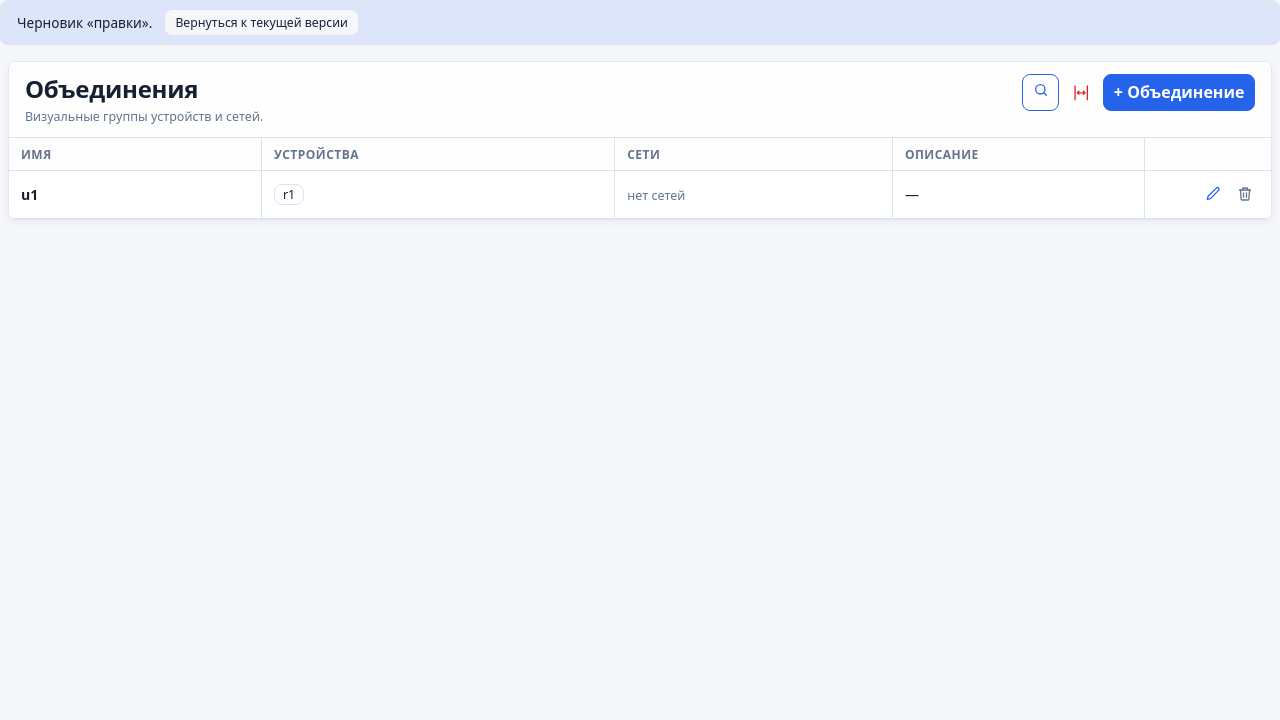
UnionsPage › says membership is set on the canvas
Expected: the text "u1" is shown, top-left (9, 170), bottom-right (261, 218)
What coordinates should you click on to do the following:
click the button titled "Изменить объединение u1"
I would click on:
 (1213, 194)
Its box is top-left (1199, 180), bottom-right (1227, 208).
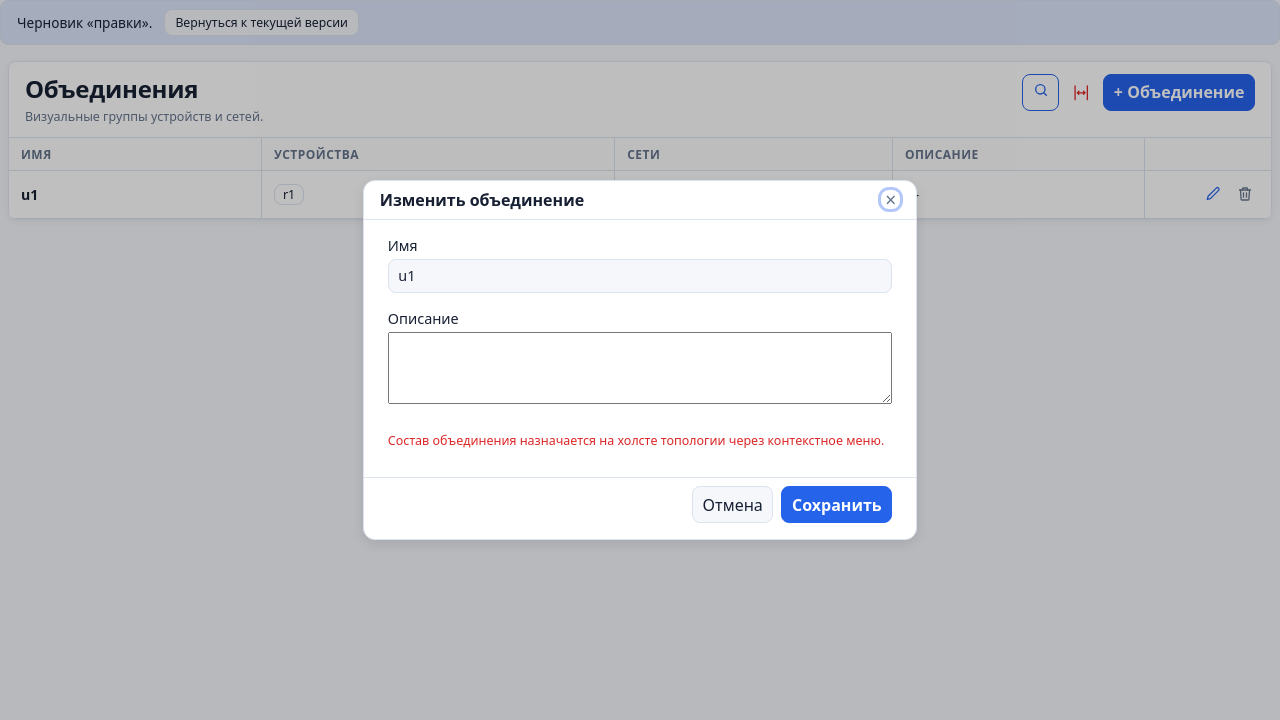
Expected: the text "назначается на холсте топологии" is shown, top-left (388, 432), bottom-right (884, 449)
